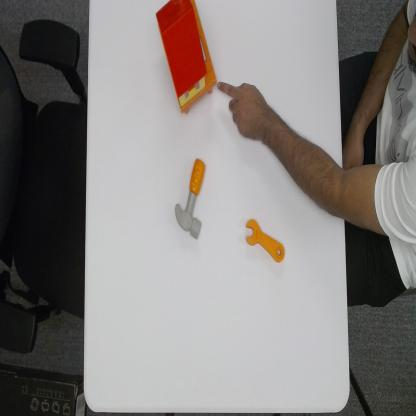Arm: (272, 108, 416, 241)
Hammer: (173, 157, 209, 242)
Hand: (216, 78, 272, 143)
House: (154, 0, 218, 119)
Screwdriver: (244, 216, 286, 263)
